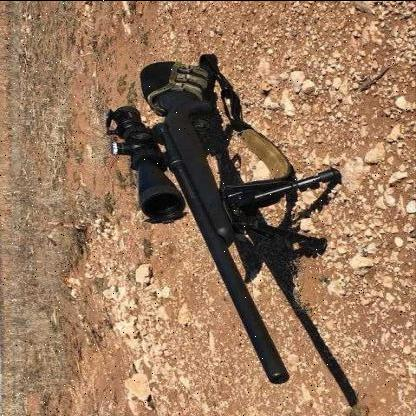rifle: (86, 42, 350, 393)
